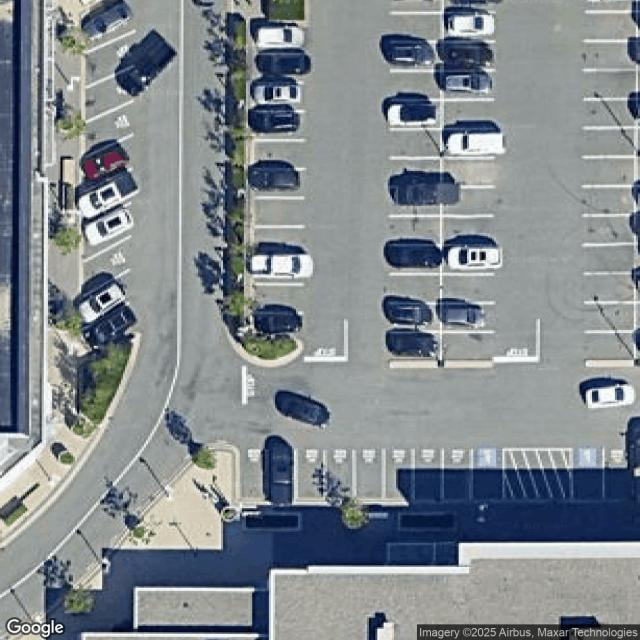car: (73, 169, 141, 219), (82, 303, 140, 349), (77, 142, 132, 185), (77, 281, 130, 325), (84, 207, 138, 247), (393, 180, 461, 207), (248, 254, 313, 278), (270, 442, 294, 506), (386, 243, 442, 268), (449, 244, 502, 270), (250, 107, 300, 134), (448, 133, 507, 154), (384, 301, 433, 325), (251, 167, 302, 190), (386, 104, 441, 125), (257, 55, 311, 76), (386, 44, 437, 66), (448, 45, 496, 68), (388, 334, 436, 356), (255, 312, 302, 333), (254, 84, 302, 104), (442, 304, 485, 326), (443, 73, 492, 92), (447, 16, 497, 34), (259, 30, 304, 48)
lot_boundary: (79, 0, 639, 508)
objects: (222, 10, 299, 363), (582, 358, 635, 369), (444, 359, 492, 369), (388, 360, 440, 369)
stall: (80, 265, 139, 330), (81, 232, 139, 297), (83, 131, 141, 191), (81, 167, 139, 226), (84, 64, 142, 123), (82, 98, 139, 158), (84, 200, 139, 262), (84, 29, 141, 88), (80, 0, 139, 54), (80, 302, 141, 353), (442, 68, 500, 101), (252, 280, 309, 313), (441, 300, 498, 333), (385, 41, 443, 73), (441, 10, 499, 42), (251, 253, 309, 285), (252, 109, 310, 141), (384, 157, 442, 189), (384, 126, 442, 158), (441, 243, 499, 275), (383, 243, 441, 275), (440, 214, 498, 246), (384, 214, 442, 246), (383, 301, 441, 333), (580, 68, 638, 100), (578, 126, 636, 158), (581, 11, 639, 43), (578, 213, 636, 245), (579, 155, 637, 187), (250, 194, 307, 226), (385, 69, 442, 101), (442, 40, 499, 72), (385, 10, 442, 42), (385, 98, 442, 130), (251, 165, 308, 197), (252, 81, 309, 113), (252, 52, 309, 84), (251, 21, 308, 53), (441, 156, 498, 188), (443, 126, 500, 158), (441, 97, 498, 129), (441, 272, 498, 304), (384, 273, 441, 305), (581, 39, 638, 71), (580, 97, 637, 129), (578, 300, 635, 332), (578, 271, 635, 303), (579, 242, 636, 274), (579, 184, 636, 216), (253, 138, 309, 170), (441, 186, 498, 216), (441, 330, 497, 360), (386, 186, 441, 216), (250, 226, 308, 254), (385, 330, 441, 359), (578, 329, 634, 358), (442, 448, 472, 499), (354, 450, 384, 501), (414, 448, 444, 499), (237, 451, 267, 502), (296, 451, 326, 501), (473, 449, 502, 500), (605, 448, 634, 499), (574, 448, 603, 499), (266, 451, 295, 502), (325, 450, 354, 501), (384, 449, 413, 500), (250, 313, 309, 333)
